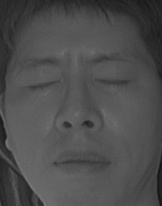blink: (20, 70, 62, 98), (91, 68, 134, 92)
mouth: (48, 142, 113, 180)
